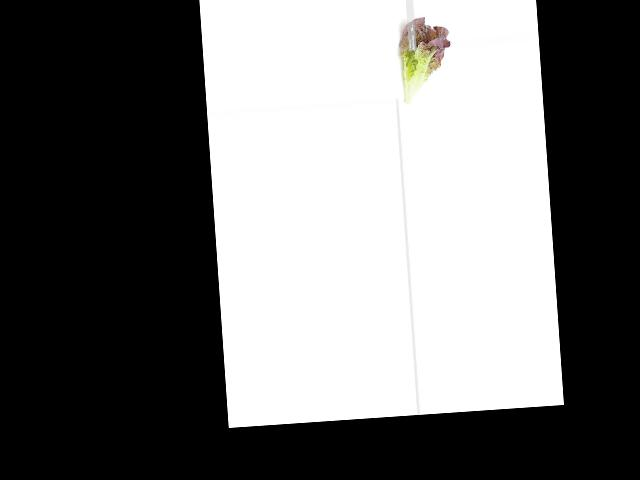lettuce: (392, 13, 455, 107)
